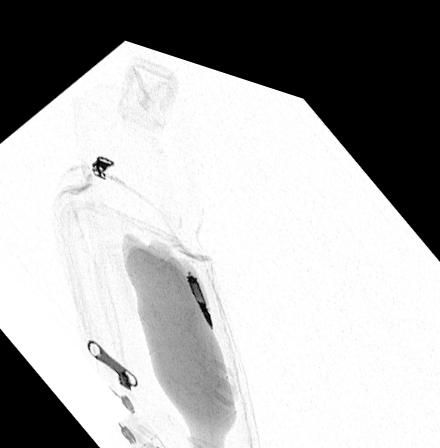Bullet: (185, 262, 212, 314)
